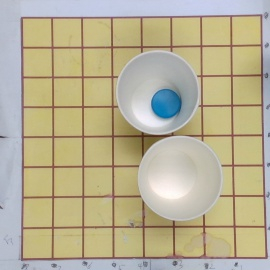cup: (136, 136, 224, 222)
cup_blue: (116, 49, 202, 136)
